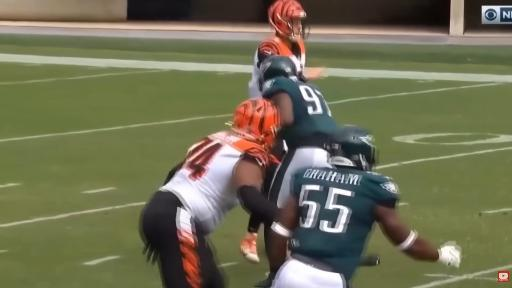Helmet: (228, 99, 281, 148), (327, 125, 378, 171), (268, 0, 307, 41), (259, 56, 298, 91)
Jersey: (291, 167, 399, 281), (160, 131, 272, 233), (263, 77, 338, 147), (249, 37, 305, 98)
Player: (270, 126, 461, 287), (140, 99, 281, 287), (260, 56, 338, 207), (249, 0, 324, 97), (249, 0, 323, 98)
